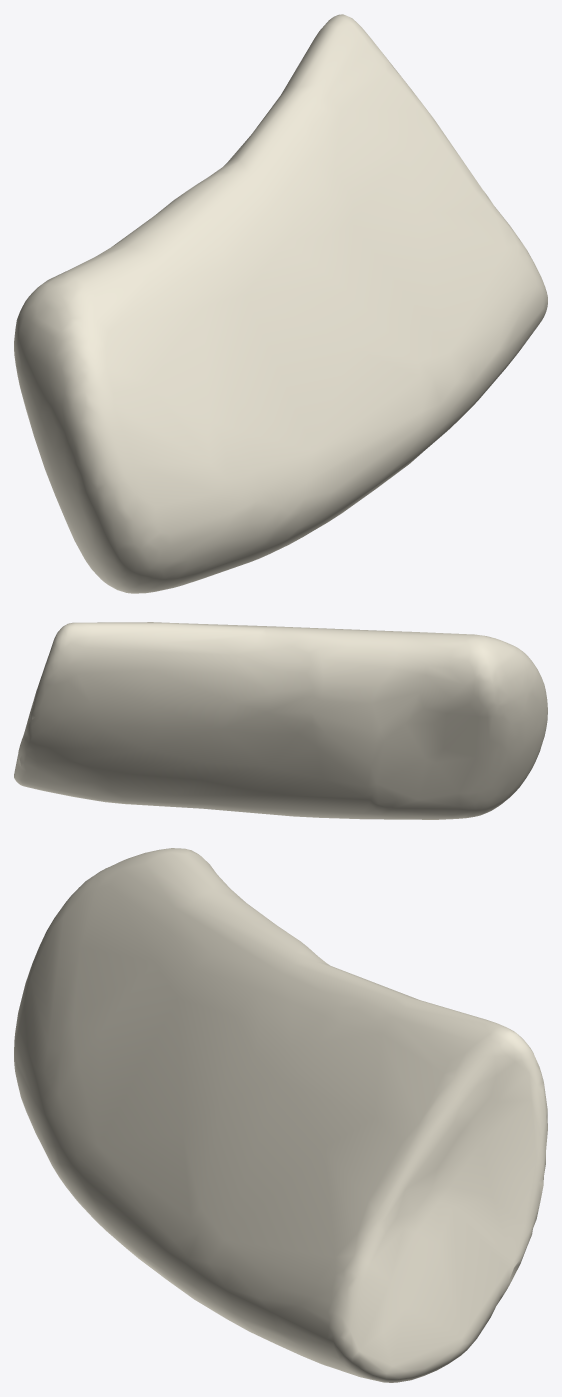
File: fma8031.glb
3 views of the same model, one above another, from view 1: azimuth 30°, elevation 25°; view 2: azimuth 150°, elevation 25°; view 3: azimuth 270°, elevation 25° (orthographic). The views are drawn at different scales.
Parts seen in each view (by area): view 1: FMA8031; view 2: FMA8031; view 3: FMA8031.
Boxes of the visible parts, left/top/right/bottom form: FMA8031: left=14, top=14, right=547, bottom=593; FMA8031: left=14, top=622, right=547, bottom=819; FMA8031: left=14, top=848, right=547, bottom=1382.
Size of the model in its own units: 0.0321 by 0.0167 by 0.024.
